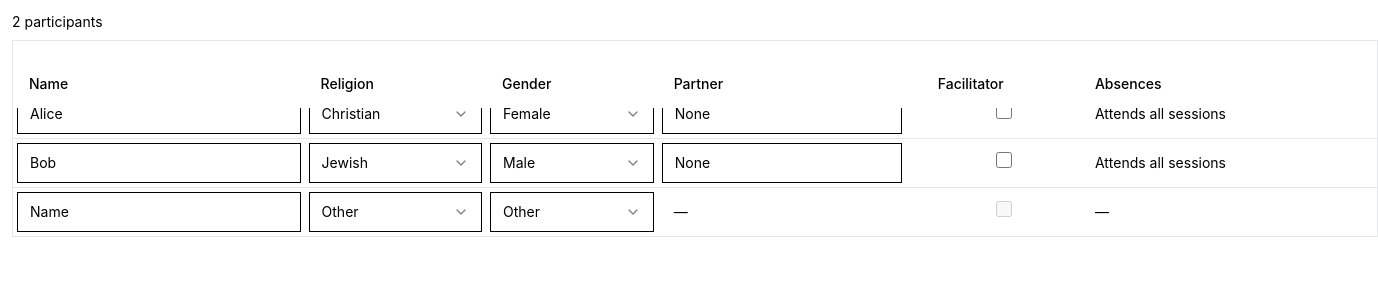
Scenario: RosterGrid › unique names › the empty row does not add a taken name
The image size is (1378, 290).
Type "BOB" into the field with placeholder "Name". click: (159, 212)
box: [17,192,301,232]
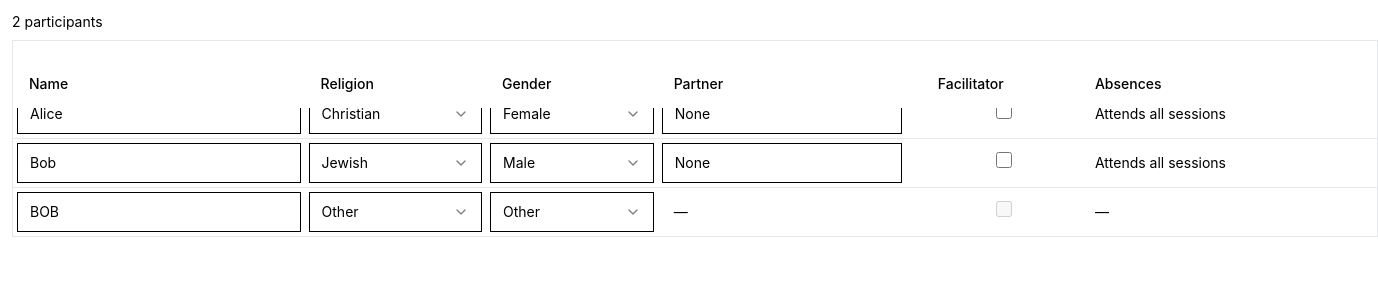
Click the element that starts with "participant". click: (695, 124)
box: [12,12,1377,236]
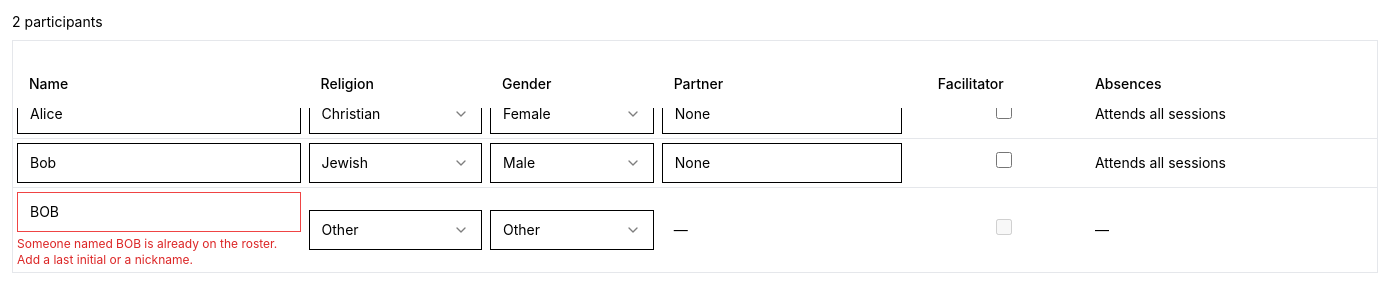
Result: the text "already on the roster" is shown at [17,236,277,266]
